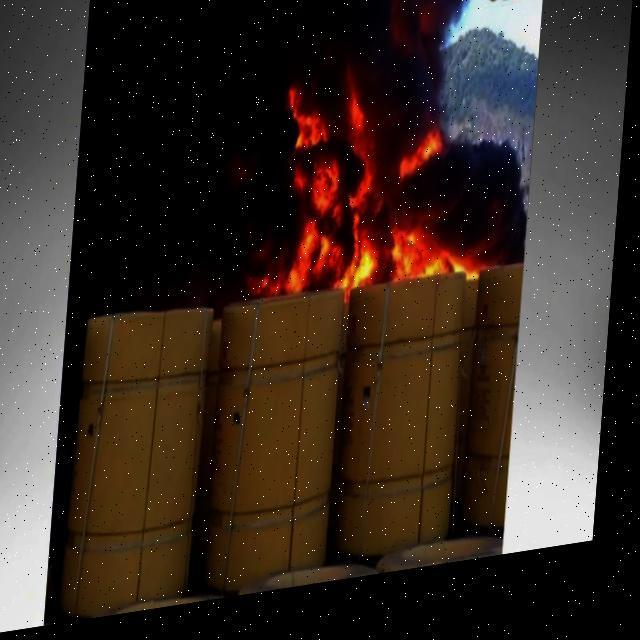Fire: (248, 67, 506, 320)
